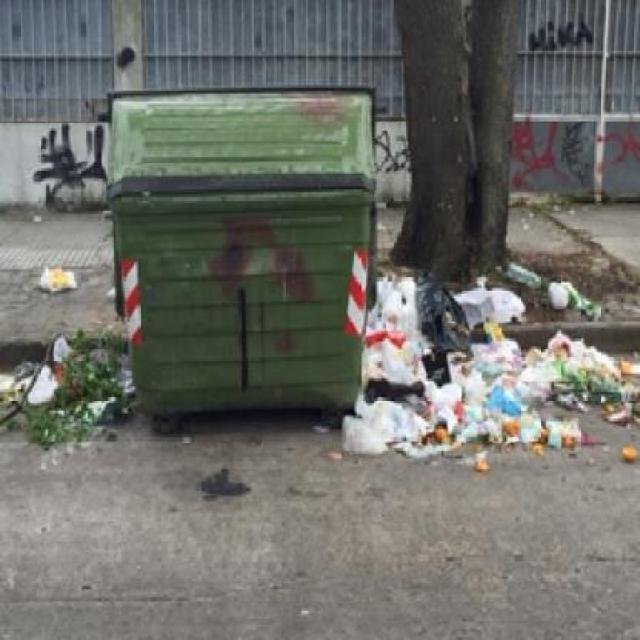garbage: (371, 251, 624, 464)
